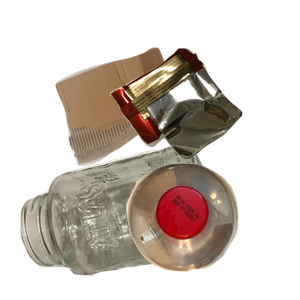cardboard: (53, 45, 221, 204)
glass: (18, 143, 227, 300)
plastic: (124, 161, 300, 300)
trash: (107, 46, 300, 198)
